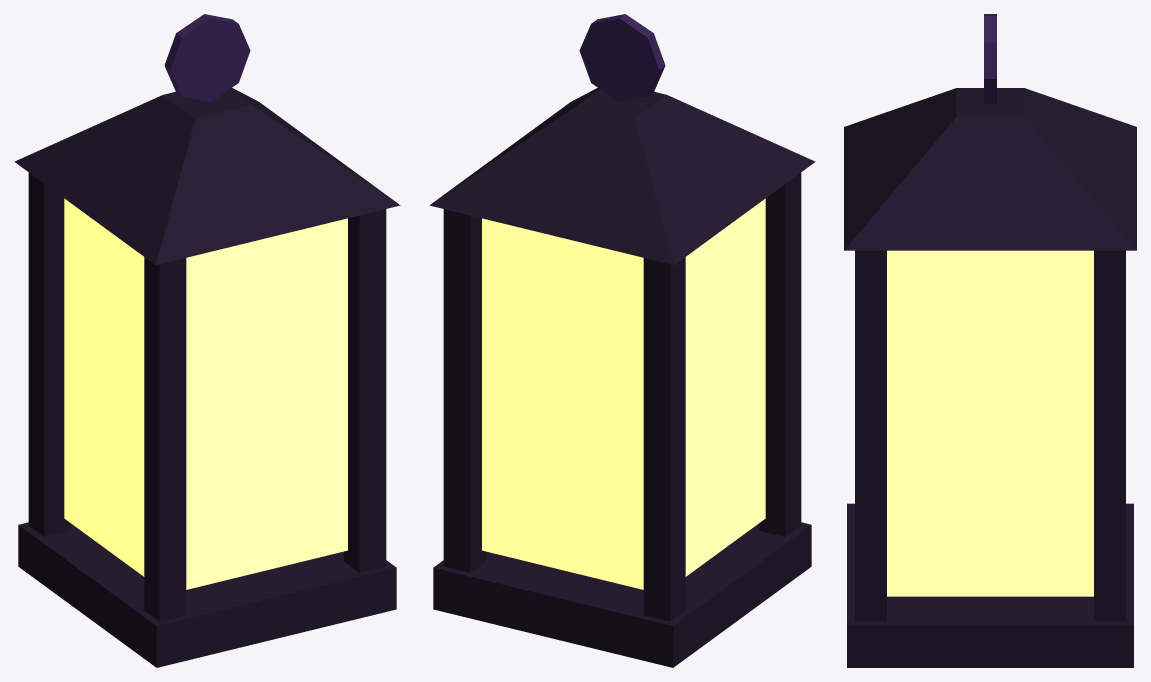
The model's file is hw3d_lantern.glb.
3 renders of one model, left to right at view 1: azimuth 30°, elevation 25°; view 2: azimuth 150°, elevation 25°; view 3: azimuth 270°, elevation 25°, orthographic. The views are drawn at different scales.
Visible parts, largest first — view 1: hw3d_lantern; view 2: hw3d_lantern; view 3: hw3d_lantern.
Part boxes in pixels (box(x1,y1,x2,y2)): hw3d_lantern: box(14, 14, 400, 667); hw3d_lantern: box(429, 14, 815, 667); hw3d_lantern: box(844, 14, 1136, 667).
Size of what is drawn, in the model's own units: 0.1838 by 0.41 by 0.1838.
